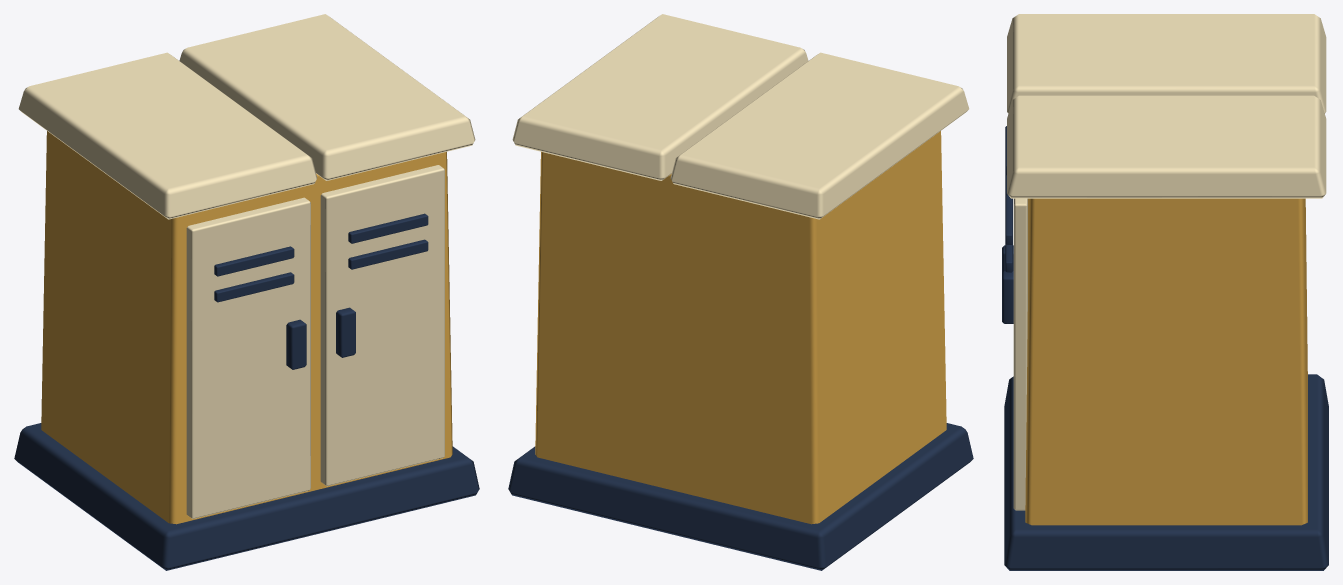
File: locker.glb
The picture shows the model from 3 angles, left to right: view 1: azimuth 30°, elevation 25°; view 2: azimuth 150°, elevation 25°; view 3: azimuth 270°, elevation 25°; orthographic projection. The views are drawn at different scales.
Parts seen in each view (by area): view 1: locker; view 2: locker; view 3: locker.
Part boxes in pixels (x1=…): locker: x1=14, y1=14, x2=479, y2=570; locker: x1=508, y1=14, x2=973, y2=570; locker: x1=1002, y1=14, x2=1328, y2=570.
Size of the model in its own units: 1.8 by 2.05 by 1.51.
